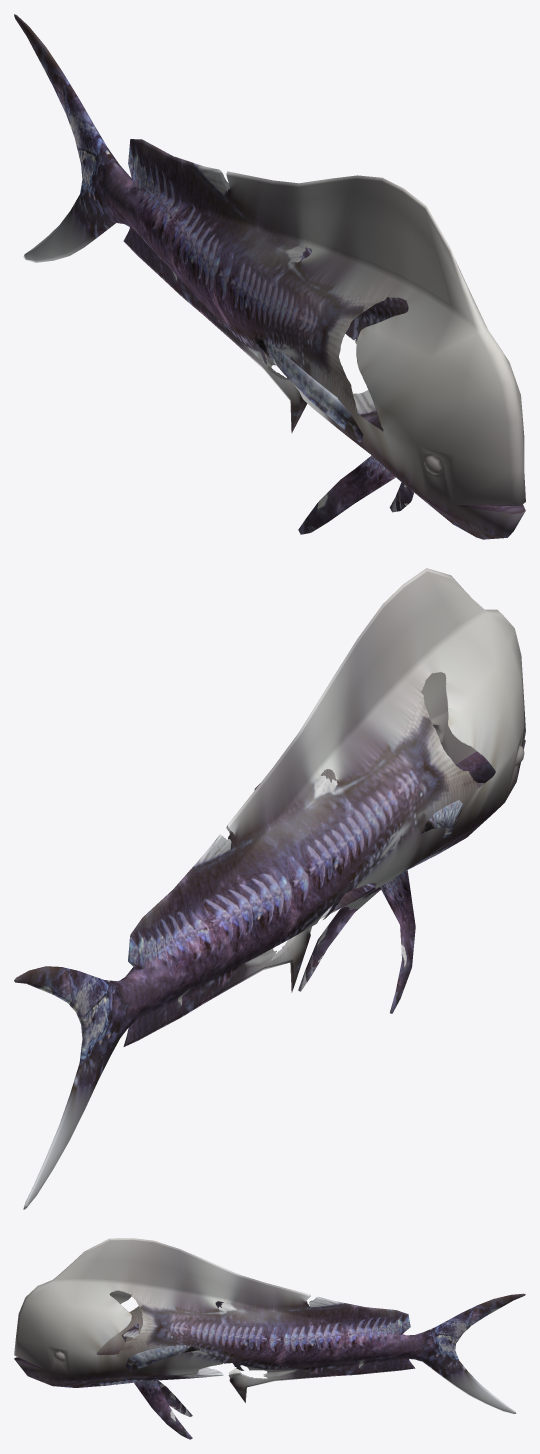
3 renders of one model, top to bottom at view 1: azimuth 30°, elevation 25°; view 2: azimuth 150°, elevation 25°; view 3: azimuth 270°, elevation 25°, orthographic. The views are drawn at different scales.
Visible parts, largest first — view 1: primary, off, secondary2; view 2: primary, secondary2, off; view 3: primary, off, secondary2.
Part boxes in pixels (x1,y1,x2,y2): primary: (14, 14, 408, 453); off: (351, 297, 525, 539); secondary2: (253, 175, 484, 534); primary: (14, 677, 472, 1209); secondary2: (254, 568, 487, 1013); off: (409, 609, 525, 868); primary: (124, 1274, 525, 1413); off: (14, 1278, 133, 1387); secondary2: (53, 1238, 238, 1439).
Bounding box in the file's own units: 0.1869 × 0.4042 × 0.9854.
